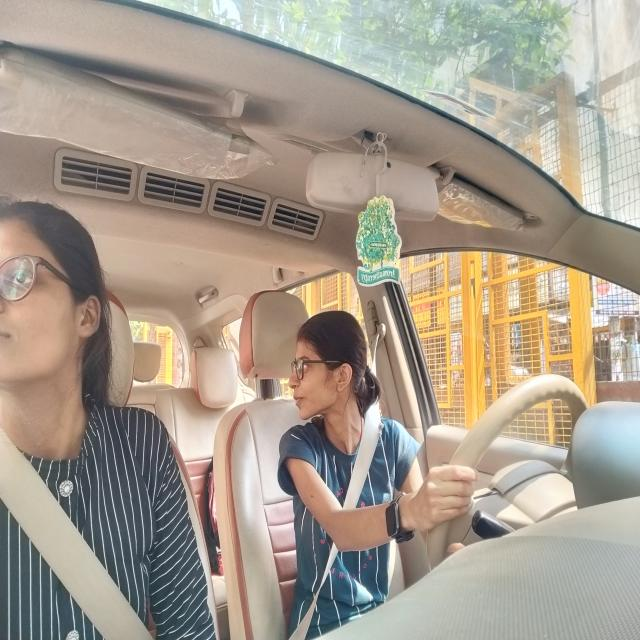LeftRight: (290, 305, 379, 434)
person: (0, 199, 106, 407)
